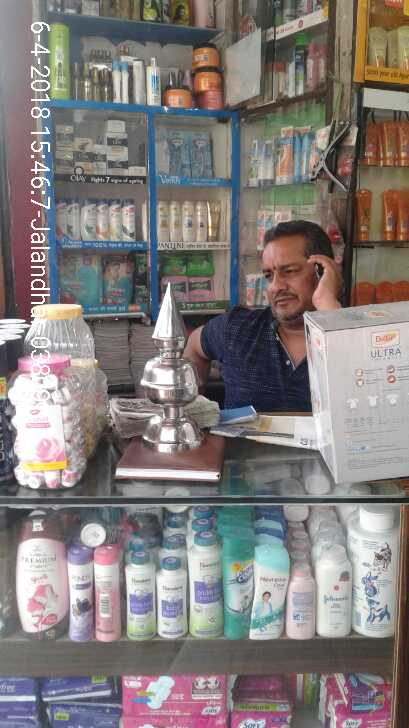venus: (166, 126, 189, 175), (191, 130, 214, 177)
